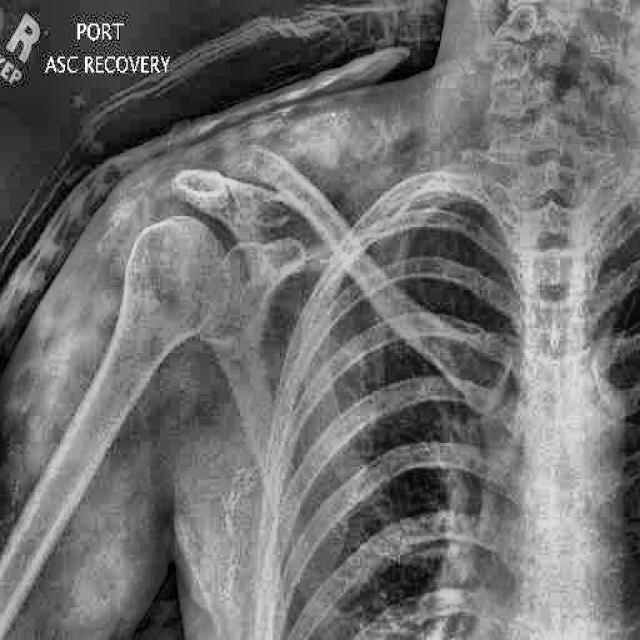shoulder fracture: (217, 127, 310, 220)
